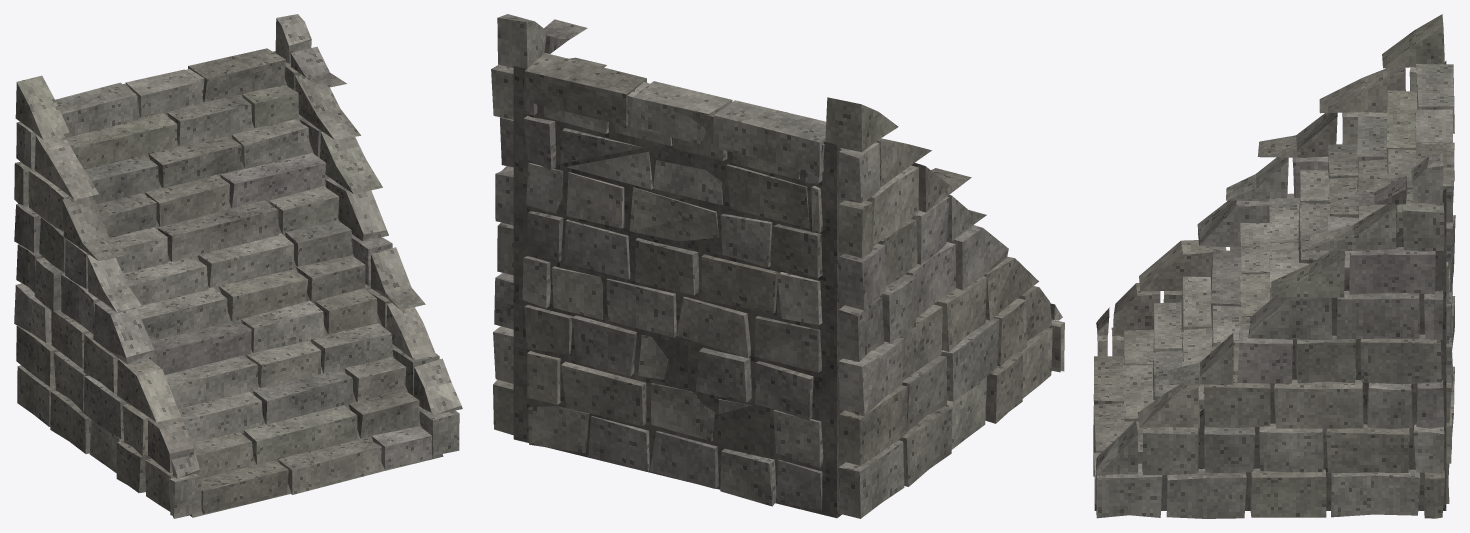
Rendered from escada_pedra_m.glb.
3 views of the same model, side by side, from view 1: azimuth 30°, elevation 25°; view 2: azimuth 150°, elevation 25°; view 3: azimuth 270°, elevation 25° (orthographic). The views are drawn at different scales.
Visible parts, largest first — view 1: escada_pedra_m_pedra; view 2: escada_pedra_m_pedra; view 3: escada_pedra_m_pedra.
Boxes of the visible parts, bbox=[...] form: escada_pedra_m_pedra: bbox=[14, 14, 462, 518]; escada_pedra_m_pedra: bbox=[491, 14, 1064, 518]; escada_pedra_m_pedra: bbox=[1093, 14, 1455, 518].
Bounding box in the file's own units: 3.14 × 3.35 × 3.09.
Materials: 1 (1 with a texture image).
